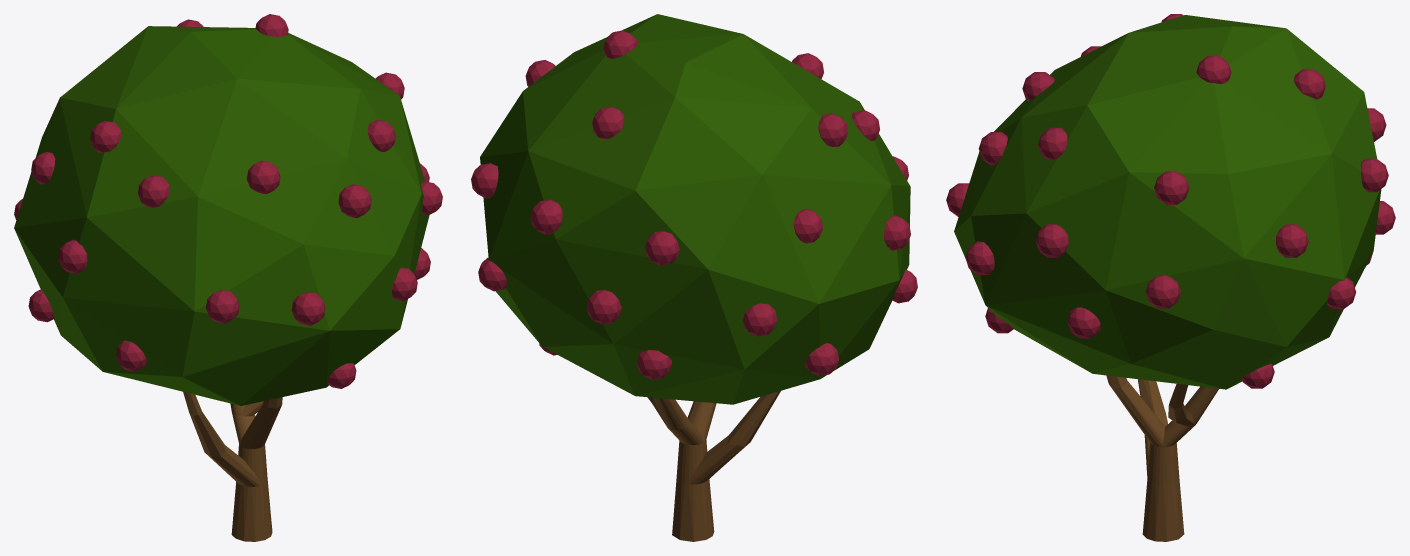
The model's file is Bush2.fbx.
The picture shows the model from 3 angles, left to right: view 1: azimuth 30°, elevation 25°; view 2: azimuth 150°, elevation 25°; view 3: azimuth 270°, elevation 25°; orthographic projection. The views are drawn at different scales.
Visible parts, largest first — view 1: Bush, Trunk, Berry.004, Berry.023, Berry.024, Berry.015, Berry.007, Berry.020, Berry.016, Berry.017, Berry.005, Berry.001 (+5 smaller); view 2: Bush, Trunk, Berry.019, Berry.011, Berry.009, Berry.022, Berry.010, Berry.021, Berry.018, Berry.020, Berry.008, Berry.003 (+5 smaller); view 3: Bush, Trunk, Berry.006, Berry, Berry.003, Berry.014, Berry.002, Berry.012, Berry.022, Berry.001, Berry.005, Berry.010 (+4 smaller).
Part boxes in pixels (x1=…): Bush: x1=14, y1=26, x2=429, y2=405; Trunk: x1=183, y1=392, x2=282, y2=541; Berry.004: x1=291, y1=292, x2=325, y2=325; Berry.023: x1=206, y1=290, x2=239, y2=323; Berry.024: x1=338, y1=184, x2=371, y2=218; Berry.015: x1=246, y1=160, x2=280, y2=193; Berry.007: x1=137, y1=175, x2=169, y2=207; Berry.020: x1=90, y1=120, x2=120, y2=152; Berry.016: x1=58, y1=239, x2=87, y2=273; Berry.017: x1=116, y1=340, x2=146, y2=371; Berry.005: x1=367, y1=120, x2=395, y2=151; Berry.001: x1=392, y1=267, x2=417, y2=301; Bush: x1=480, y1=14, x2=910, y2=404; Trunk: x1=647, y1=391, x2=780, y2=541; Berry.019: x1=645, y1=231, x2=679, y2=265; Berry.011: x1=586, y1=290, x2=621, y2=324; Berry.009: x1=743, y1=303, x2=777, y2=336; Berry.022: x1=530, y1=199, x2=562, y2=234; Berry.010: x1=592, y1=106, x2=624, y2=139; Berry.021: x1=637, y1=350, x2=672, y2=379; Berry.018: x1=805, y1=343, x2=838, y2=376; Berry.020: x1=818, y1=113, x2=847, y2=146; Berry.008: x1=793, y1=208, x2=822, y2=243; Berry.003: x1=471, y1=163, x2=498, y2=198; Bush: x1=954, y1=15, x2=1381, y2=389; Trunk: x1=1106, y1=375, x2=1218, y2=541; Berry.006: x1=1154, y1=171, x2=1189, y2=204; Berry: x1=1146, y1=275, x2=1180, y2=308; Berry.003: x1=1276, y1=224, x2=1308, y2=257; Berry.014: x1=1035, y1=224, x2=1068, y2=257; Berry.002: x1=1067, y1=307, x2=1100, y2=338; Berry.012: x1=1196, y1=55, x2=1231, y2=83; Berry.022: x1=1360, y1=158, x2=1388, y2=192; Berry.001: x1=965, y1=241, x2=994, y2=274; Berry.005: x1=1038, y1=127, x2=1067, y2=160; Berry.010: x1=1293, y1=69, x2=1325, y2=99.
Size of the model in its own units: 88.6 by 111 by 90.37.
